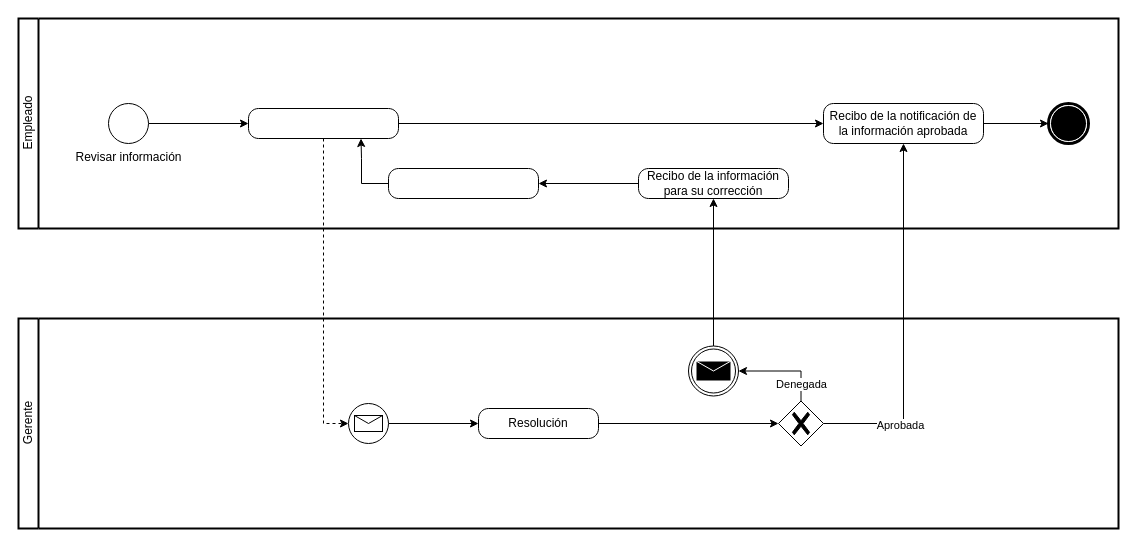
This 1136x546 diagram has some shape labels left out. Here are the shapes that lost their labels. From the top down, the centre of each, then its label:
At point (323, 123): "Envio de la información".
At point (463, 183): "Corrección de la información".
At point (801, 423): "Evaluación de la información".
